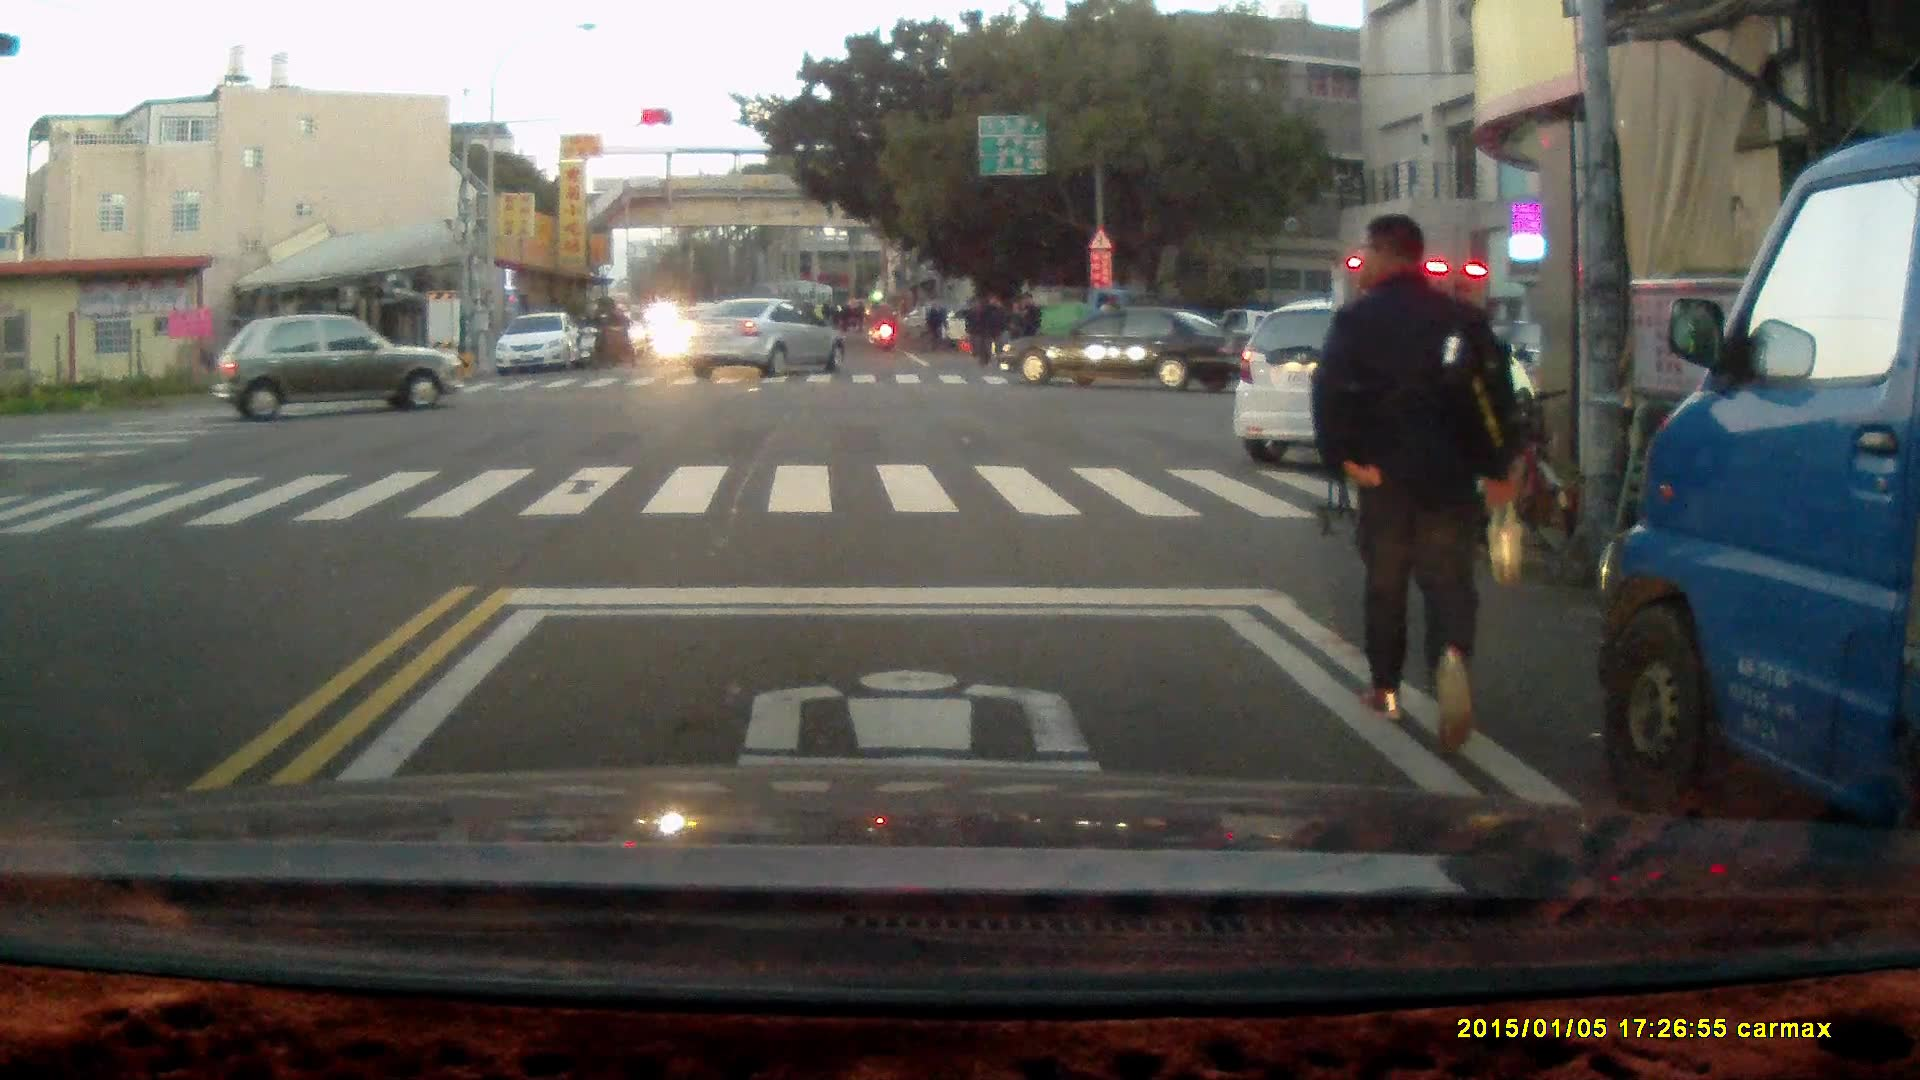pedestrian: (1305, 212, 1521, 752), (976, 291, 1007, 370), (1011, 291, 1040, 369), (926, 295, 947, 353)
rider: (576, 301, 608, 368), (603, 302, 632, 368)
vehicle: (1598, 132, 1920, 848), (1233, 296, 1533, 459), (214, 314, 463, 426), (1011, 304, 1240, 393), (660, 297, 850, 380), (1002, 284, 1178, 367), (498, 313, 586, 377)
